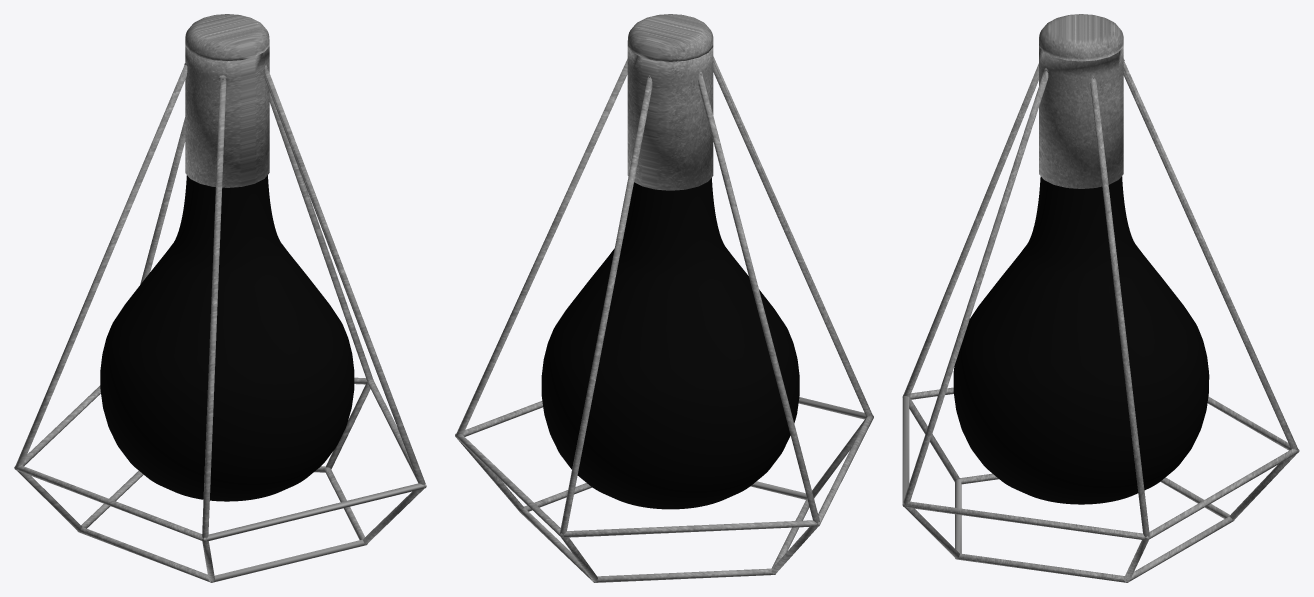
The model's file is focoVerde.obj.
3 renders of one model, left to right at view 1: azimuth 30°, elevation 25°; view 2: azimuth 150°, elevation 25°; view 3: azimuth 270°, elevation 25°, orthographic.
Visible parts, largest first — view 1: GreenLamp:Cylinder017polySurface1, GreenLamp:Cylinder017; view 2: GreenLamp:Cylinder017polySurface1, GreenLamp:Cylinder017; view 3: GreenLamp:Cylinder017polySurface1, GreenLamp:Cylinder017.
Part boxes in pixels (x1,y1,x2,y2): GreenLamp:Cylinder017polySurface1: (100, 175, 354, 501); GreenLamp:Cylinder017: (14, 14, 426, 582); GreenLamp:Cylinder017polySurface1: (541, 178, 799, 509); GreenLamp:Cylinder017: (455, 14, 873, 582); GreenLamp:Cylinder017polySurface1: (953, 176, 1209, 504); GreenLamp:Cylinder017: (902, 14, 1299, 582).
Bounding box in the file's own units: 0.0945 × 0.1236 × 0.09.
